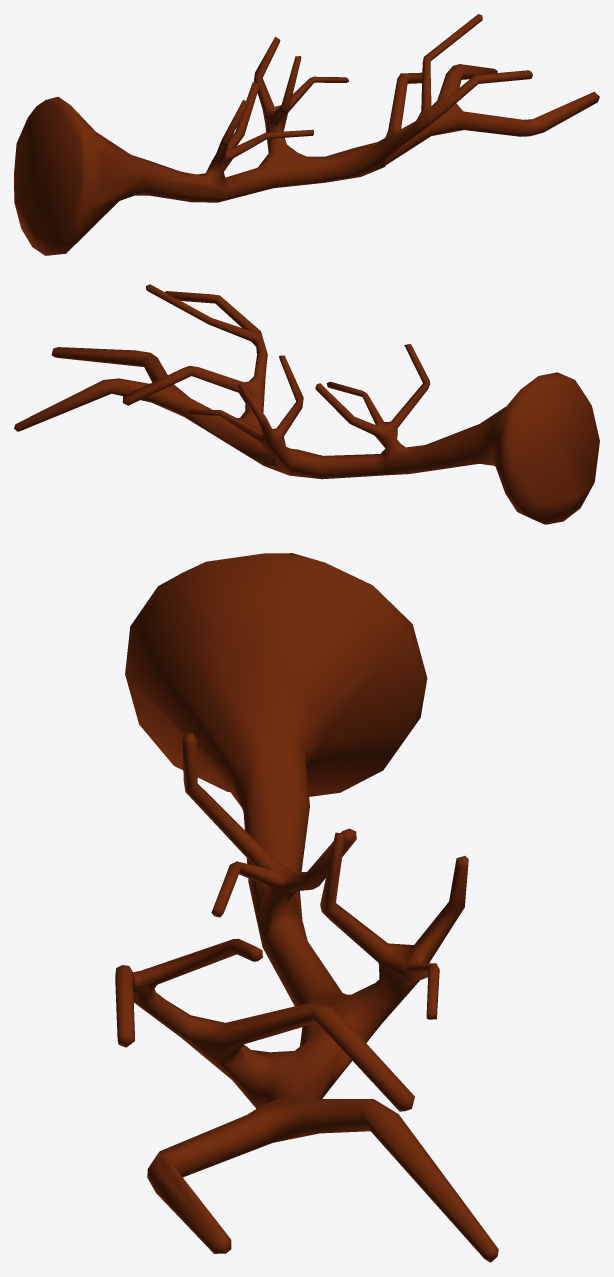
The model's file is overturned tree.fbx.
The picture shows the model from 3 angles, top to bottom: view 1: azimuth 30°, elevation 25°; view 2: azimuth 150°, elevation 25°; view 3: azimuth 270°, elevation 25°; orthographic projection. The views are drawn at different scales.
Visible parts, largest first — view 1: Vert.004; view 2: Vert.004; view 3: Vert.004.
Part boxes in pixels (x1=…): Vert.004: x1=14, y1=14, x2=599, y2=255; Vert.004: x1=14, y1=284, x2=599, y2=524; Vert.004: x1=115, y1=553, x2=498, y2=1262.
Size of the model in its own units: 5.23 by 1.35 by 1.63.
